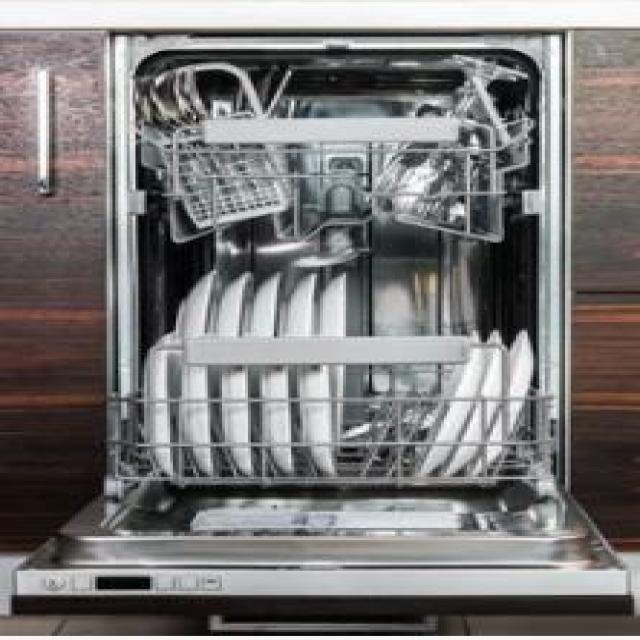dishwasher: (9, 31, 637, 612)
